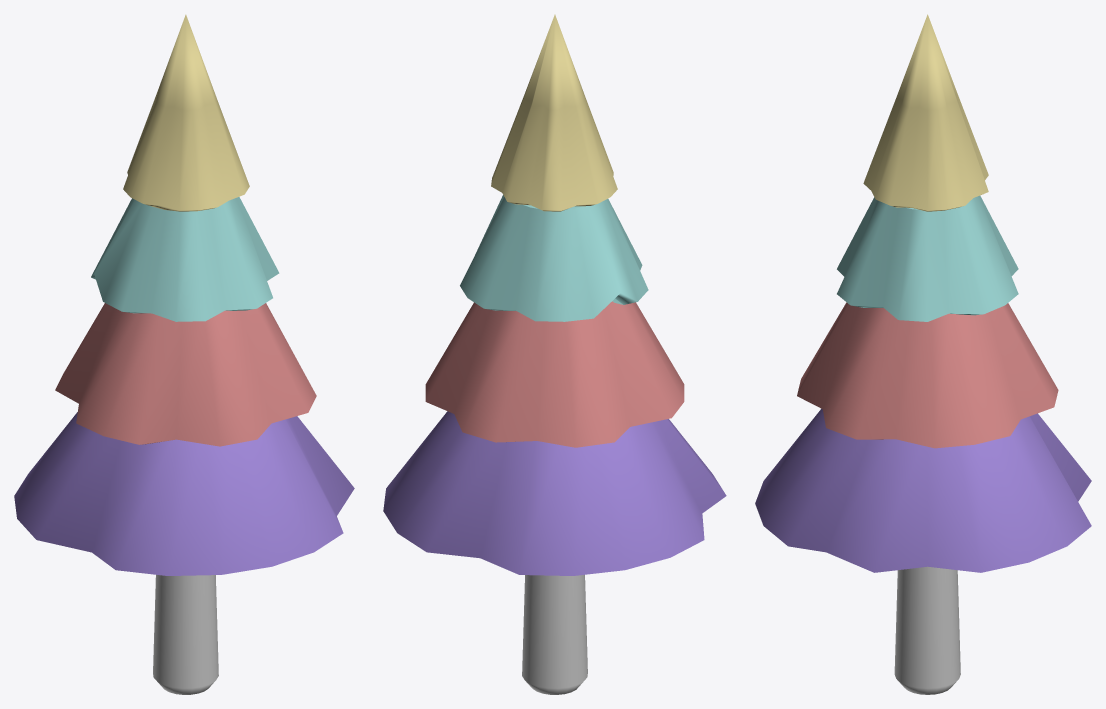
Rendered from k_tree.fbx.
3 renders of one model, left to right at view 1: azimuth 30°, elevation 25°; view 2: azimuth 150°, elevation 25°; view 3: azimuth 270°, elevation 25°, orthographic.
Visible parts, largest first — view 1: pCylinder2, pCylinder1; view 2: pCylinder2, pCylinder1; view 3: pCylinder2, pCylinder1.
Boxes of the visible parts, left/top/right/bottom form: pCylinder2: left=14, top=14, right=354, bottom=575; pCylinder1: left=153, top=575, right=218, bottom=694; pCylinder2: left=383, top=14, right=726, bottom=575; pCylinder1: left=522, top=575, right=587, bottom=694; pCylinder2: left=755, top=14, right=1091, bottom=572; pCylinder1: left=894, top=566, right=960, bottom=694.
Size of the model in its own units: 453 by 995 by 453.
